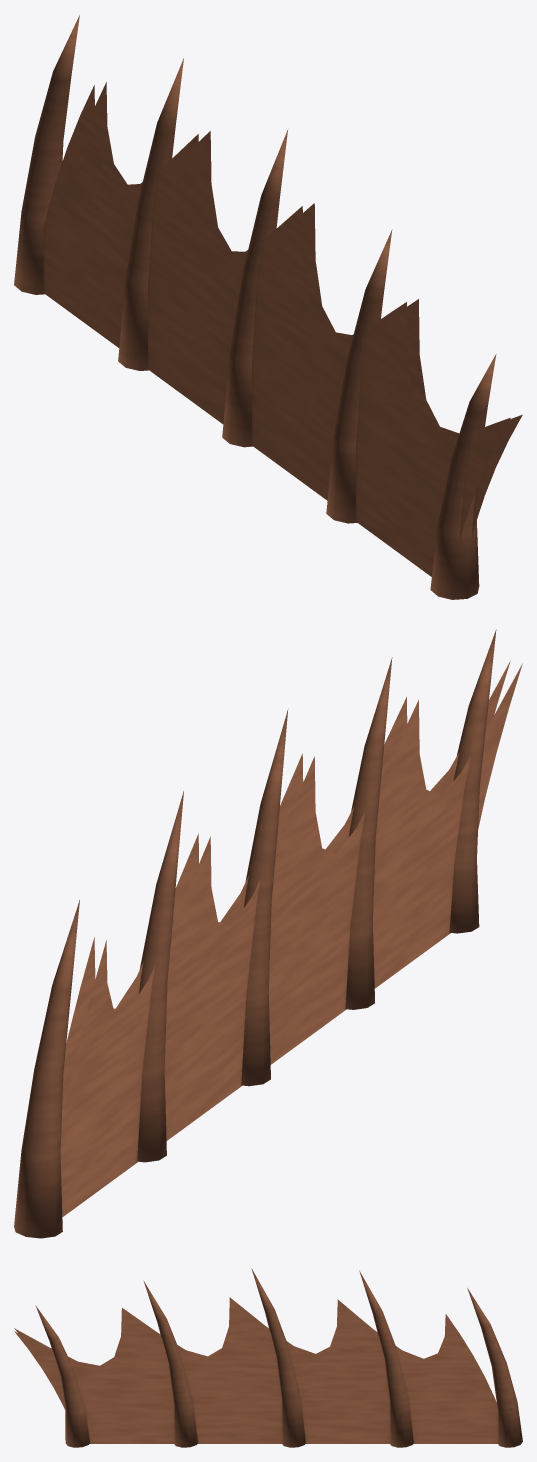
The model's file is cpart_crest.glb.
The picture shows the model from 3 angles, top to bottom: view 1: azimuth 30°, elevation 25°; view 2: azimuth 150°, elevation 25°; view 3: azimuth 270°, elevation 25°; orthographic projection. The views are drawn at different scales.
Visible parts, largest first — view 1: Crest; view 2: Crest; view 3: Crest.
Part boxes in pixels (x1=…): Crest: x1=14, y1=15, x2=522, y2=599; Crest: x1=14, y1=629, x2=522, y2=1238; Crest: x1=14, y1=1268, x2=522, y2=1447.
Bounding box in the file's own units: 0.0171 × 0.135 × 0.3538.
1 material, 1 textured.
